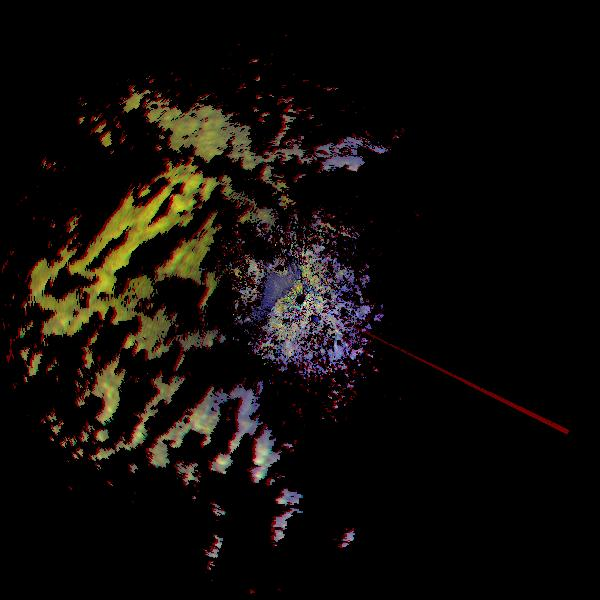roost: (251, 322, 368, 439)
